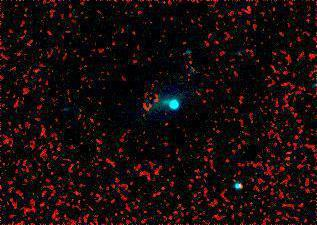star: (225, 173, 255, 203)
